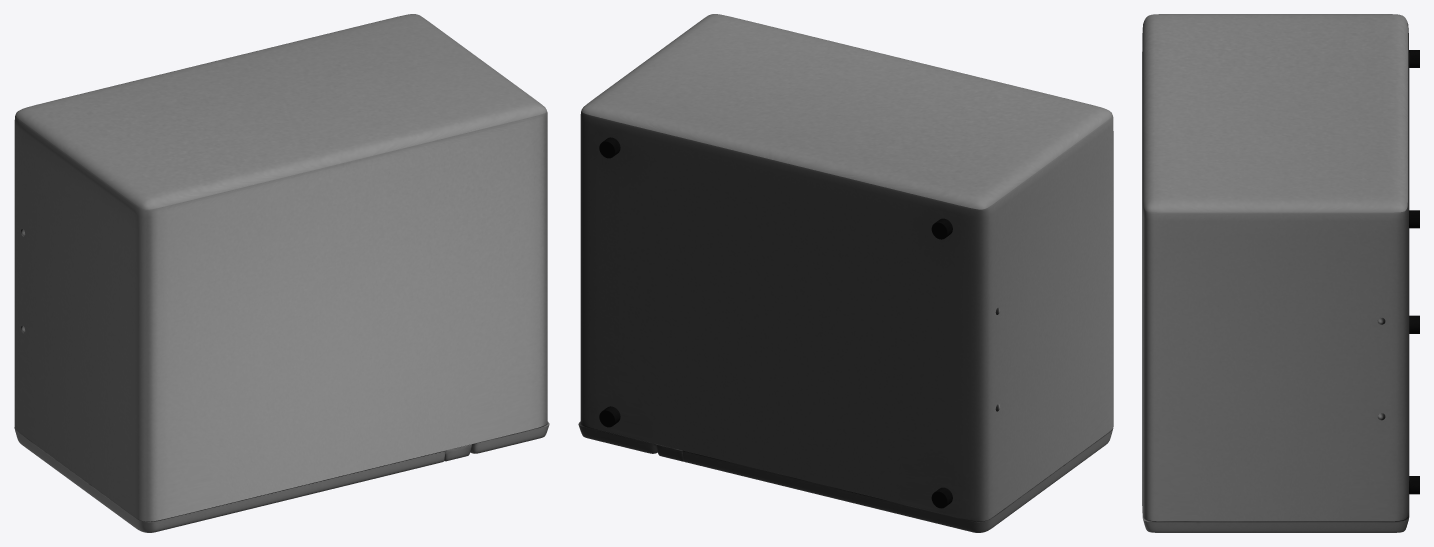
File: 10122_Microwave_Oven_v1_L3.obj
3 renders of one model, left to right at view 1: azimuth 30°, elevation 25°; view 2: azimuth 150°, elevation 25°; view 3: azimuth 270°, elevation 25°, orthographic.
Visible parts, largest first — view 1: 10122_Microwave_Oven_v1_SG; view 2: 10122_Microwave_Oven_v1_SG; view 3: 10122_Microwave_Oven_v1_SG.
Part boxes in pixels (x1=…): 10122_Microwave_Oven_v1_SG: x1=14, y1=14, x2=549, y2=532; 10122_Microwave_Oven_v1_SG: x1=578, y1=14, x2=1113, y2=532; 10122_Microwave_Oven_v1_SG: x1=1142, y1=14, x2=1419, y2=532.
Bounding box in the file's own units: 46.36 × 36.97 × 27.39.
Materials: 1 (1 with a texture image).
